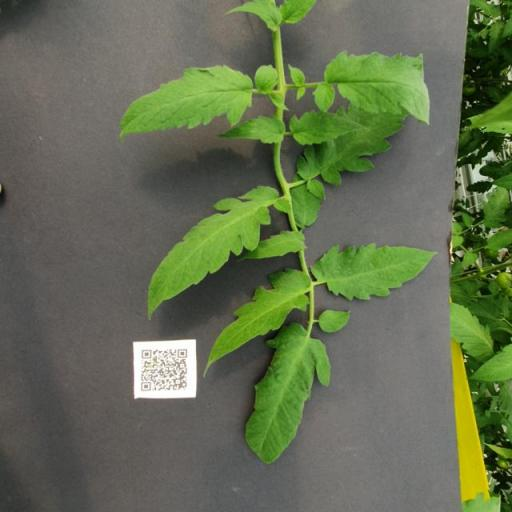Healthy: (148, 185, 292, 321), (245, 322, 332, 464), (202, 267, 312, 378), (119, 64, 253, 143), (312, 53, 431, 125), (308, 242, 440, 302), (236, 229, 308, 263), (215, 115, 285, 145), (318, 309, 352, 333)
